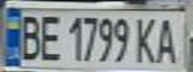1: (63, 12, 84, 62)
7: (78, 12, 100, 62)
9: (112, 15, 133, 63), (96, 14, 115, 62)
A: (151, 15, 184, 65)
B: (15, 11, 45, 62)
E: (36, 11, 63, 62)
K: (133, 13, 160, 64)
